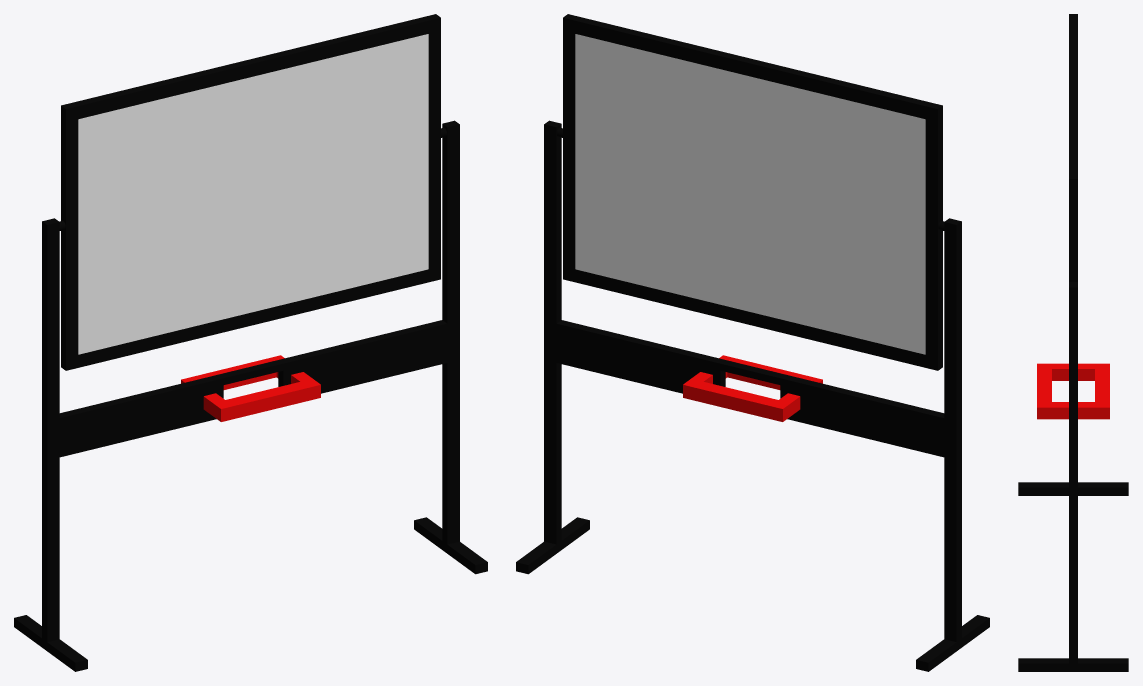
The model's file is Whiteboard.fbx.
The picture shows the model from 3 angles, left to right: view 1: azimuth 30°, elevation 25°; view 2: azimuth 150°, elevation 25°; view 3: azimuth 270°, elevation 25°; orthographic projection. The views are drawn at different scales.
Parts seen in each view (by area): view 1: Whiteboard, Frame, Grip; view 2: Whiteboard, Frame, Grip; view 3: Frame, Grip.
Boxes of the visible parts, x1,y1,x2,y2 form: Whiteboard: [78, 34, 428, 354]; Frame: [14, 14, 487, 671]; Grip: [181, 355, 320, 421]; Whiteboard: [575, 34, 925, 354]; Frame: [516, 14, 989, 671]; Grip: [683, 355, 822, 421]; Frame: [1018, 14, 1128, 671]; Grip: [1037, 363, 1109, 419].
Size of the model in its own units: 330 by 411 by 85.
